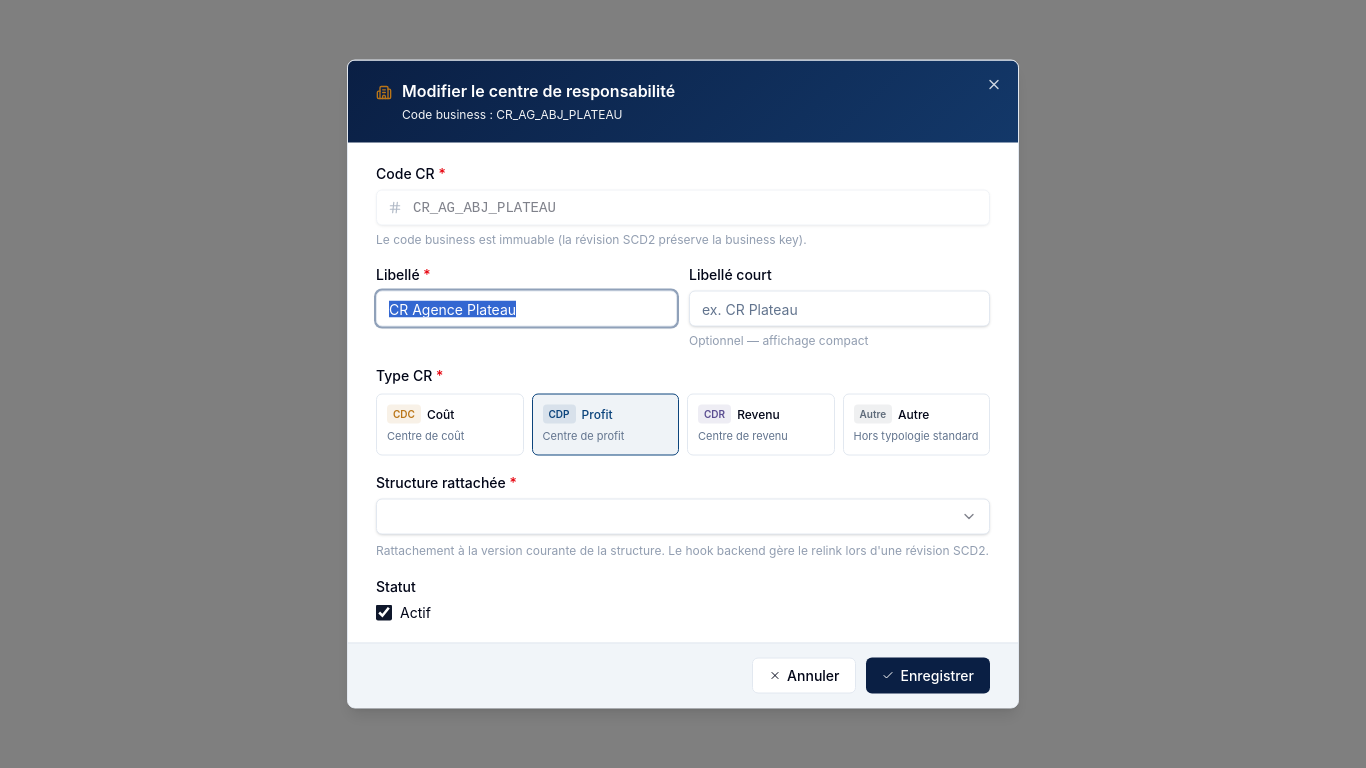
Test case: CrFormDrawer › mode edit : bandeau SCD2 jaune apparaît après modification libellé
Check: the text "SCD2 — Modification d'attribut historisé" is not shown
Replace the text in the field labelled "Libellé *" with "CR Agence Plateau (rénové)": {"x": 526, "y": 308} [376, 290, 677, 326]
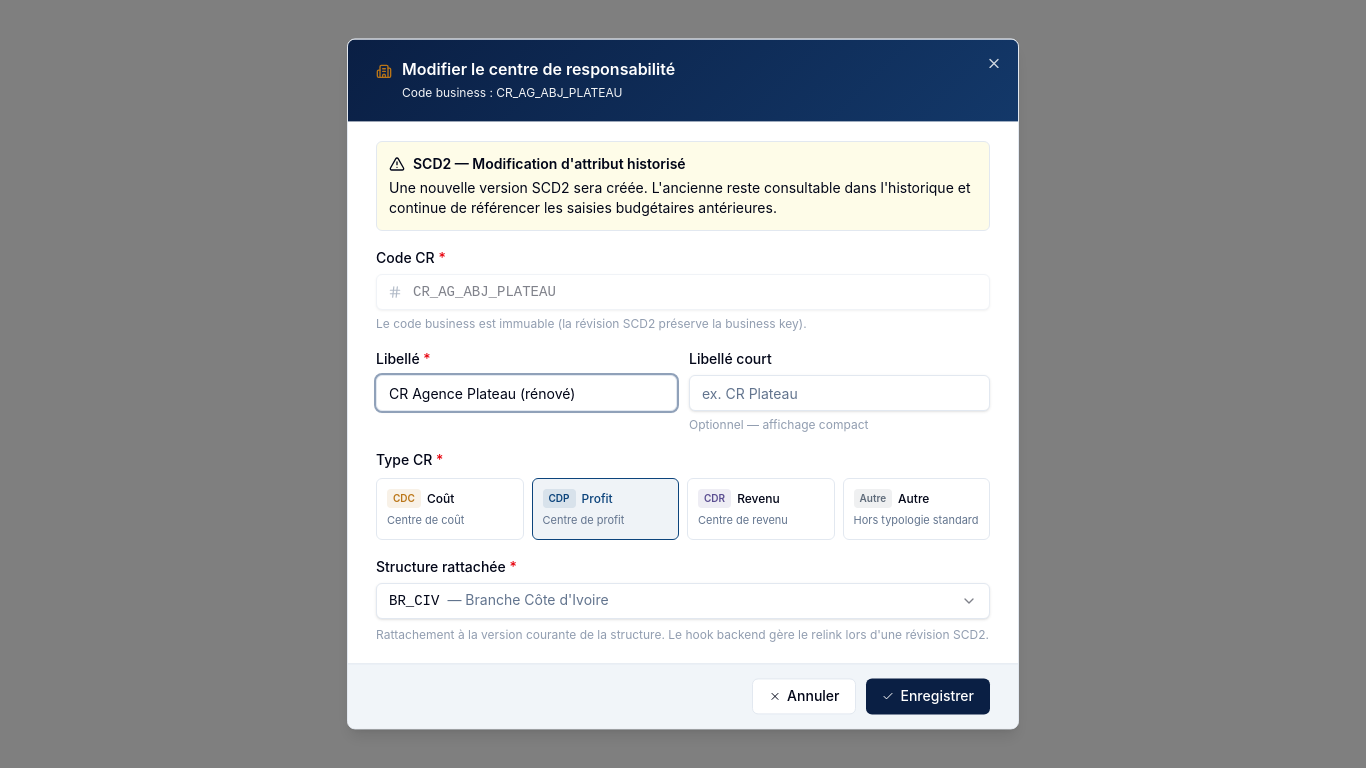
Check: the text "SCD2 — Modification d'attribut historisé" is shown, box [389, 155, 686, 172]
